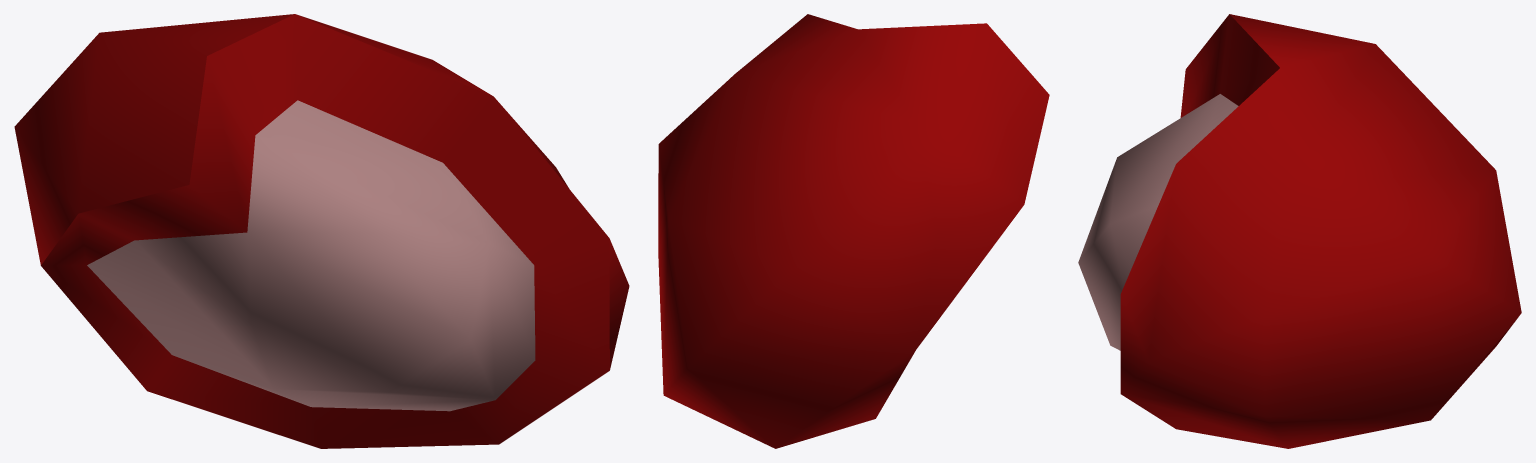
Rendered from Gib.FBX.
3 renders of one model, left to right at view 1: azimuth 30°, elevation 25°; view 2: azimuth 150°, elevation 25°; view 3: azimuth 270°, elevation 25°, orthographic. The views are drawn at different scales.
Parts seen in each view (by area): view 1: Hedra01, Object01; view 2: Hedra01; view 3: Hedra01, Object01.
Part boxes in pixels (<box>): Hedra01: <box>14,14,629,448</box>; Object01: <box>87,100,535,411</box>; Hedra01: <box>658,14,1049,448</box>; Hedra01: <box>1120,14,1521,448</box>; Object01: <box>1078,94,1238,350</box>.
Bounding box in the file's own units: 24.56 × 23.16 × 27.21.
